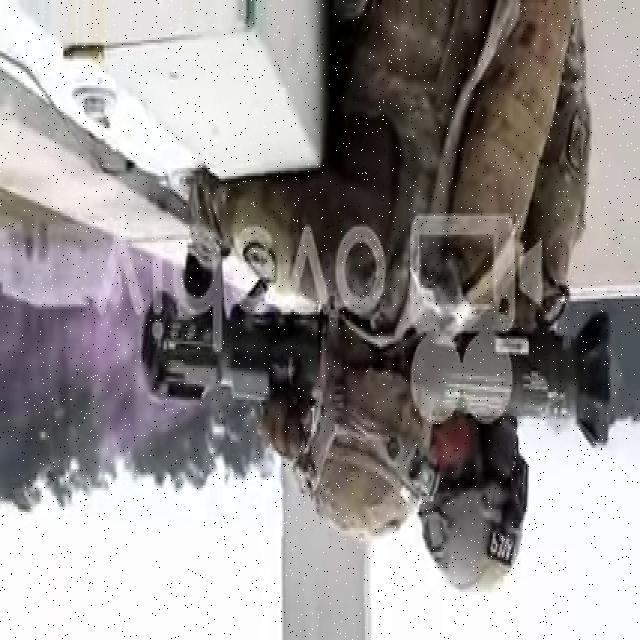bazooka: (124, 303, 621, 454)
